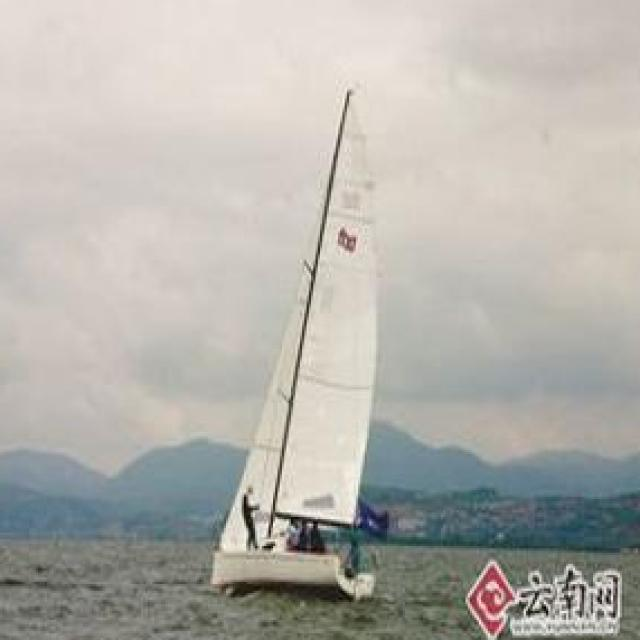sailboat: (211, 84, 393, 598)
